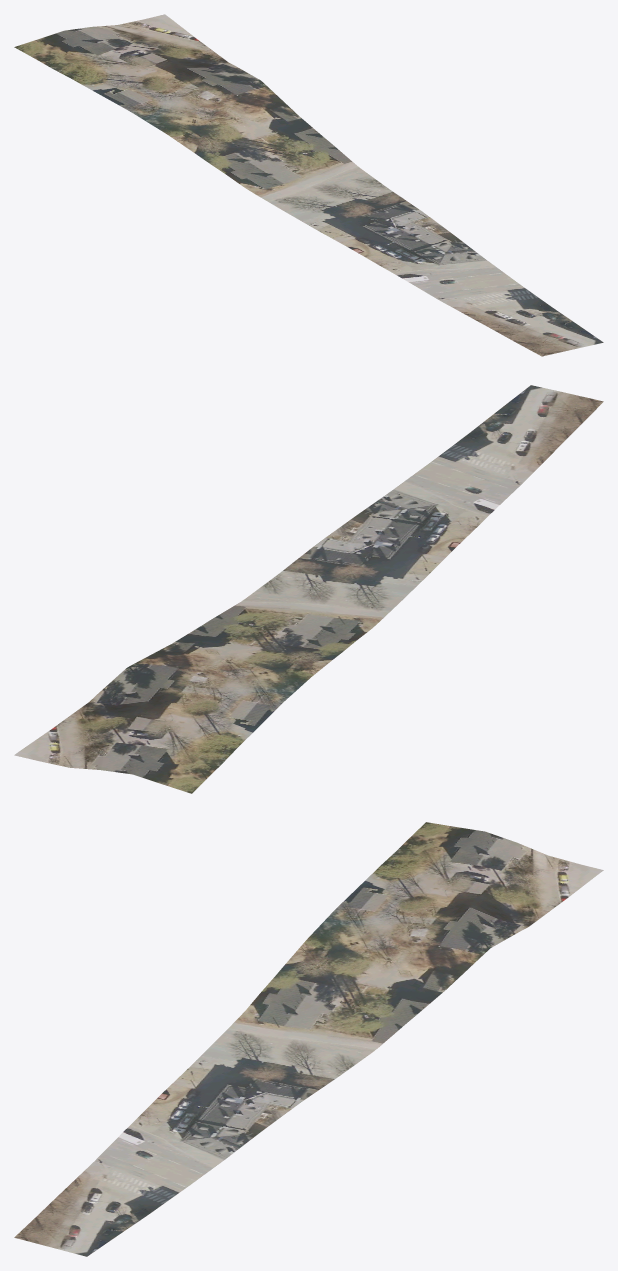
Rendered from CM_Terrain_24485749_6821022.fbx.
The picture shows the model from 3 angles, top to bottom: view 1: azimuth 30°, elevation 25°; view 2: azimuth 150°, elevation 25°; view 3: azimuth 330°, elevation 25°; orthographic projection. The views are drawn at different scales.
Parts seen in each view (by area): view 1: CM_Terrain_24485749_6821022_LOD0; view 2: CM_Terrain_24485749_6821022_LOD0; view 3: CM_Terrain_24485749_6821022_LOD0.
Part boxes in pixels (x1,y1,x2,y2): CM_Terrain_24485749_6821022_LOD0: (14,14,603,356); CM_Terrain_24485749_6821022_LOD0: (14,385,603,793); CM_Terrain_24485749_6821022_LOD0: (14,822,603,1256).
Size of what is drawn, in the model's own units: 40.67 by 4.91 by 205.
